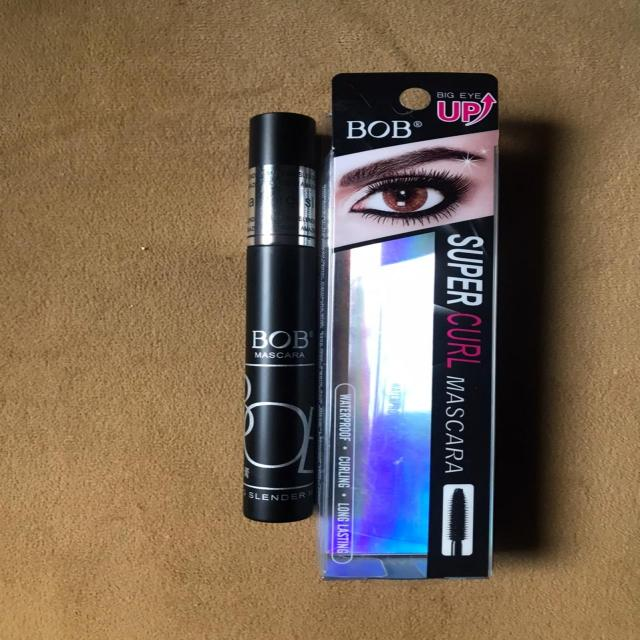mascara: (210, 86, 330, 540)
